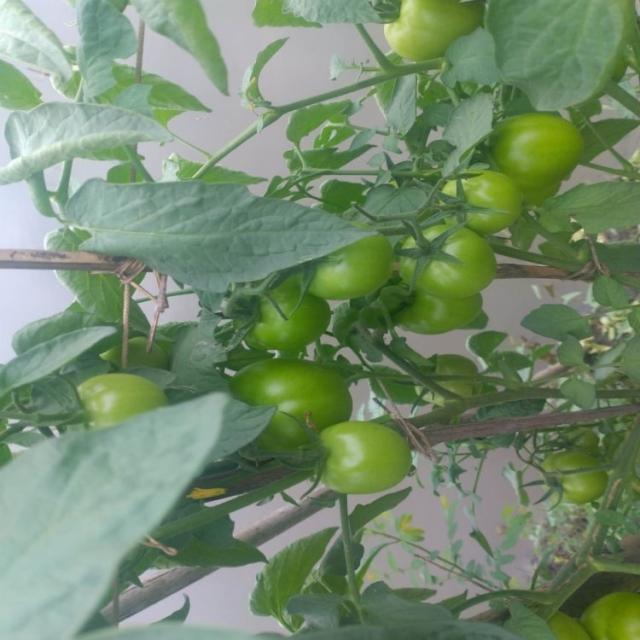tomato: (242, 350, 366, 454), (305, 416, 422, 502), (397, 225, 501, 298), (493, 109, 589, 186), (310, 230, 391, 305), (378, 1, 476, 58), (249, 281, 329, 349), (438, 167, 520, 232), (390, 283, 478, 336), (87, 371, 167, 427), (414, 350, 482, 404), (583, 587, 640, 640), (534, 599, 588, 640), (551, 449, 598, 496)
